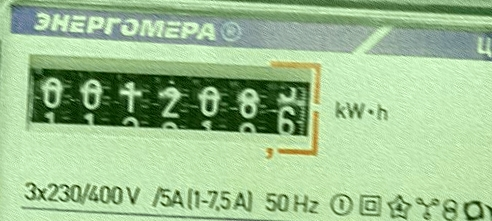0: (195, 83, 221, 119), (78, 75, 102, 112), (40, 73, 62, 111)
1: (119, 78, 137, 116)
2: (156, 84, 183, 120)
6: (272, 102, 297, 137)
8: (234, 85, 258, 122)
screen: (13, 42, 329, 171)
